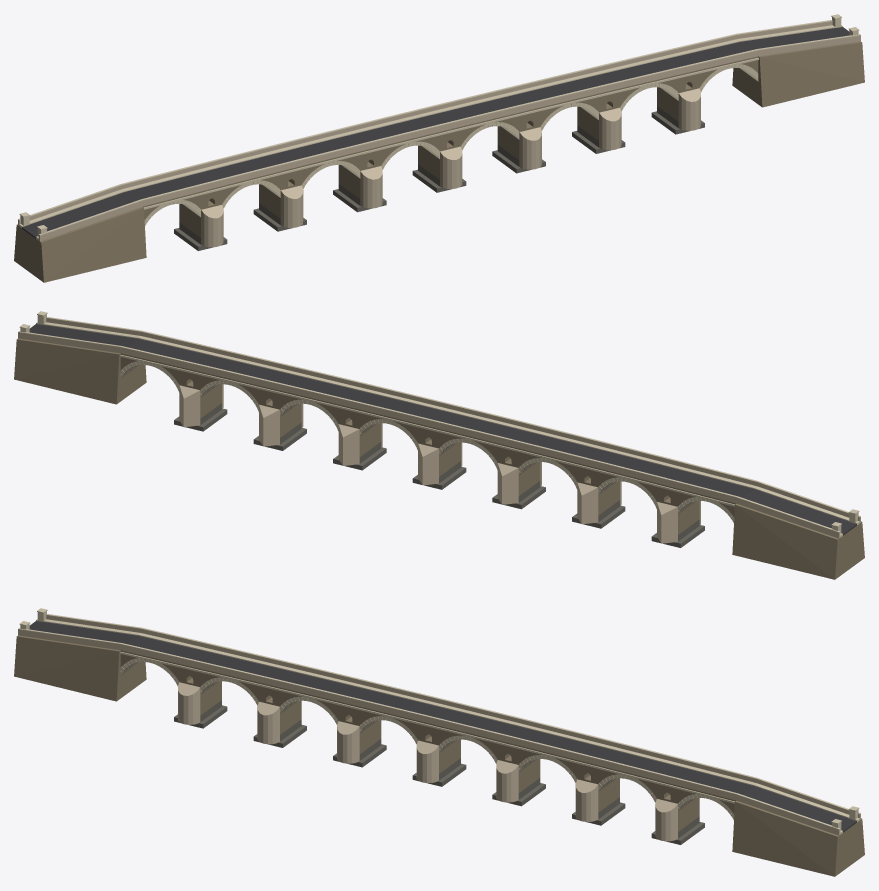
The model's file is rome_pons_aemilius.glb.
3 views of the same model, one above another, from view 1: azimuth 30°, elevation 25°; view 2: azimuth 150°, elevation 25°; view 3: azimuth 330°, elevation 25° (orthographic).
Parts seen in each view (by area): view 1: rome_pons_aemilius; view 2: rome_pons_aemilius; view 3: rome_pons_aemilius.
Boxes of the visible parts, x1,y1,x2,y2 form: rome_pons_aemilius: [14, 14, 864, 282]; rome_pons_aemilius: [14, 311, 864, 579]; rome_pons_aemilius: [14, 608, 864, 876].
Size of the model in its own units: 196 by 15 by 14.
